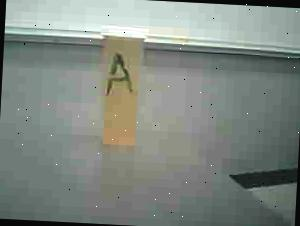Bottle A: (88, 17, 154, 162)
